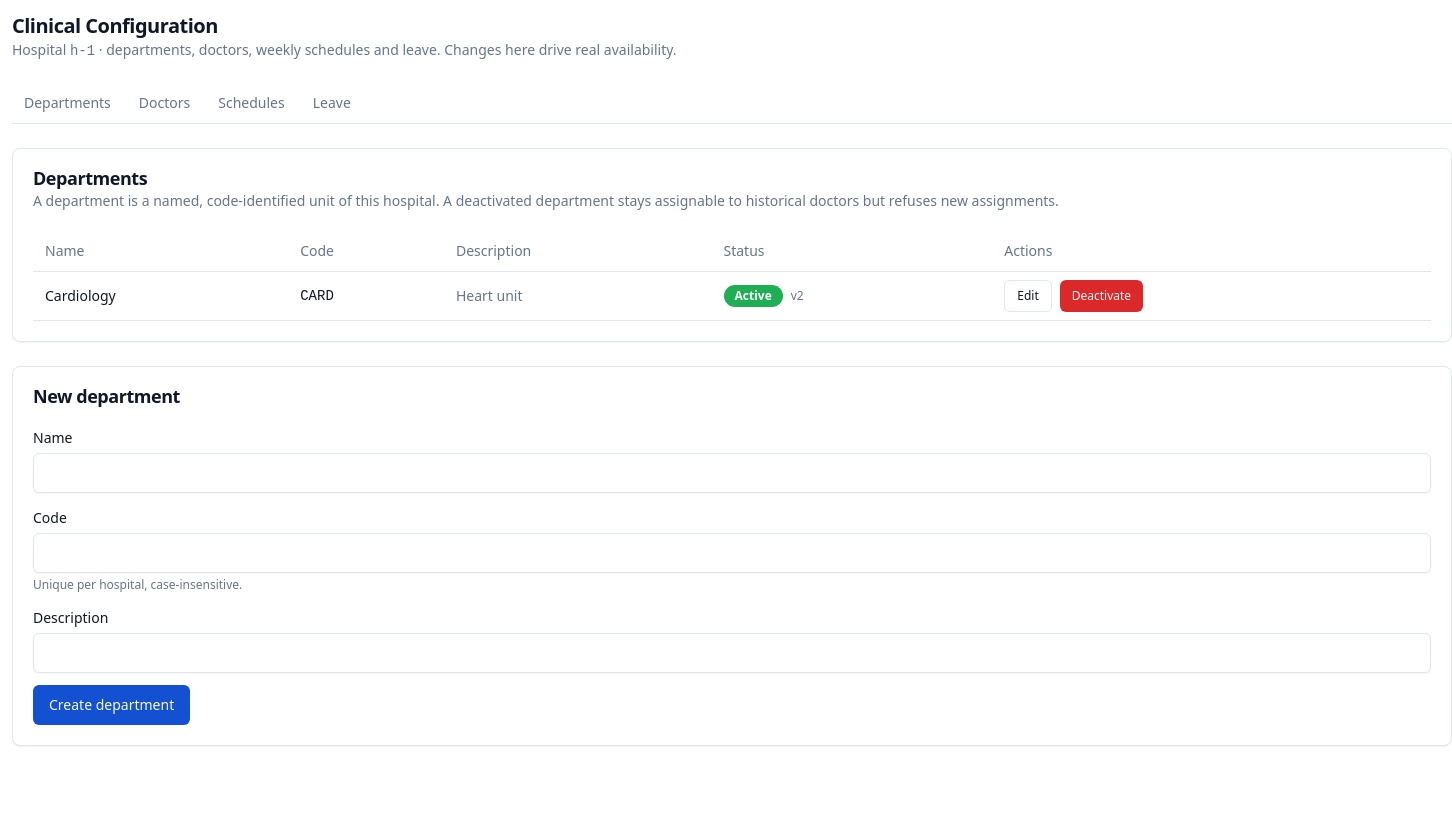
Test: renders the server rows and serves all four tabs from ONE read
This screenshot has width=1452, height=816.
Expected: the text "Cardiology" is shown, top-left (33, 271), bottom-right (288, 320)
Expected: the text "CARD" is shown, top-left (288, 271), bottom-right (444, 320)
Click the tab "Doctors" at {"x": 164, "y": 104}, box top-left (127, 85), bottom-right (202, 123)
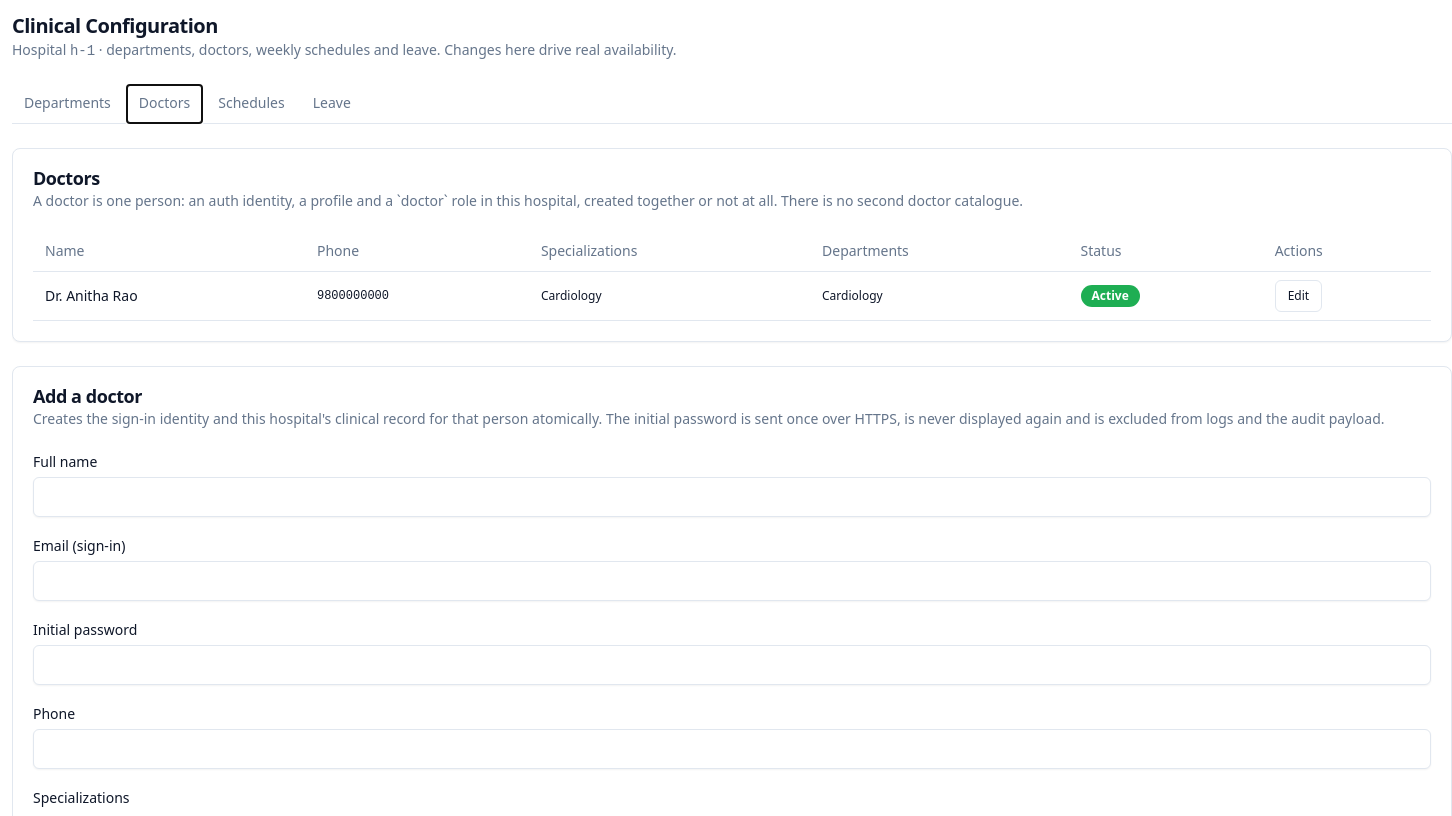
Expected: the text "Dr. Anitha Rao" is shown, top-left (33, 271), bottom-right (305, 320)
Click the tab with test id "cc-tab-schedules" at {"x": 252, "y": 104}, box top-left (206, 85), bottom-right (297, 123)
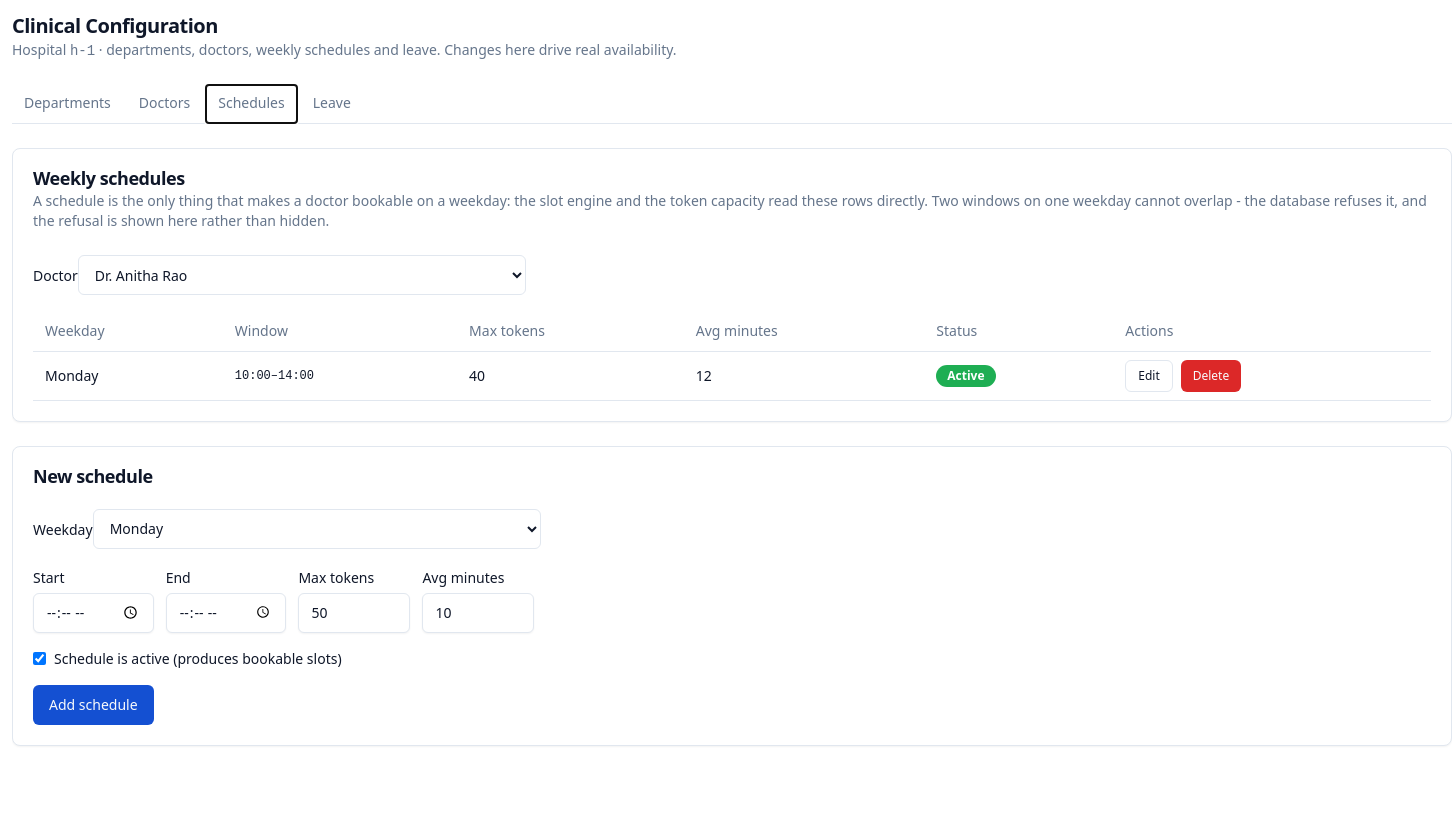
Expected: the row with test id "cc-schedule-row-s-1" shows "Monday", top-left (45, 366), bottom-right (98, 384)
Click the tab "Leave" at {"x": 332, "y": 104}, box top-left (301, 85), bottom-right (363, 123)
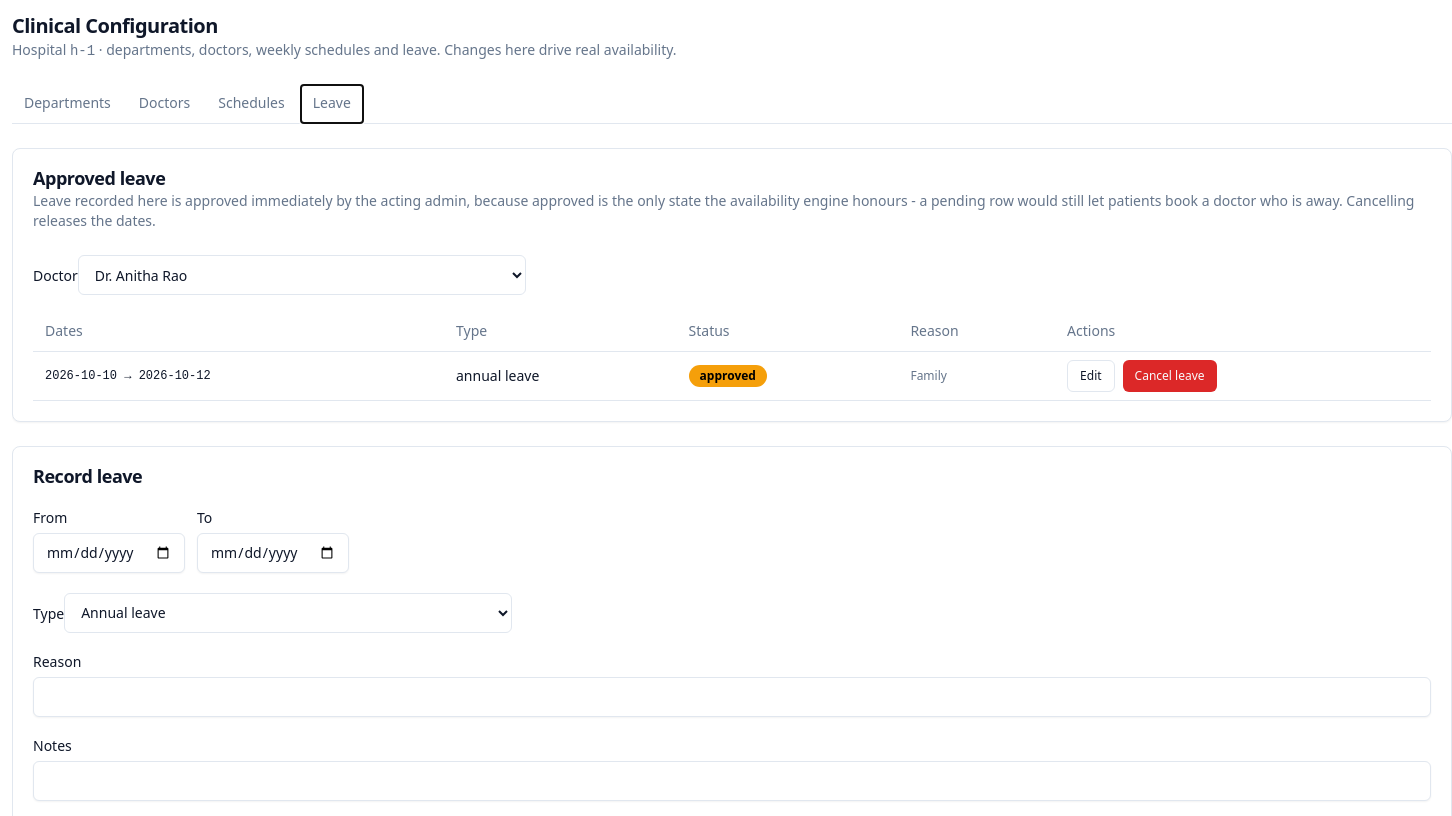
Expected: the row with test id "cc-leave-row-l-1" shows "2026-10-10", top-left (45, 368), bottom-right (117, 382)
